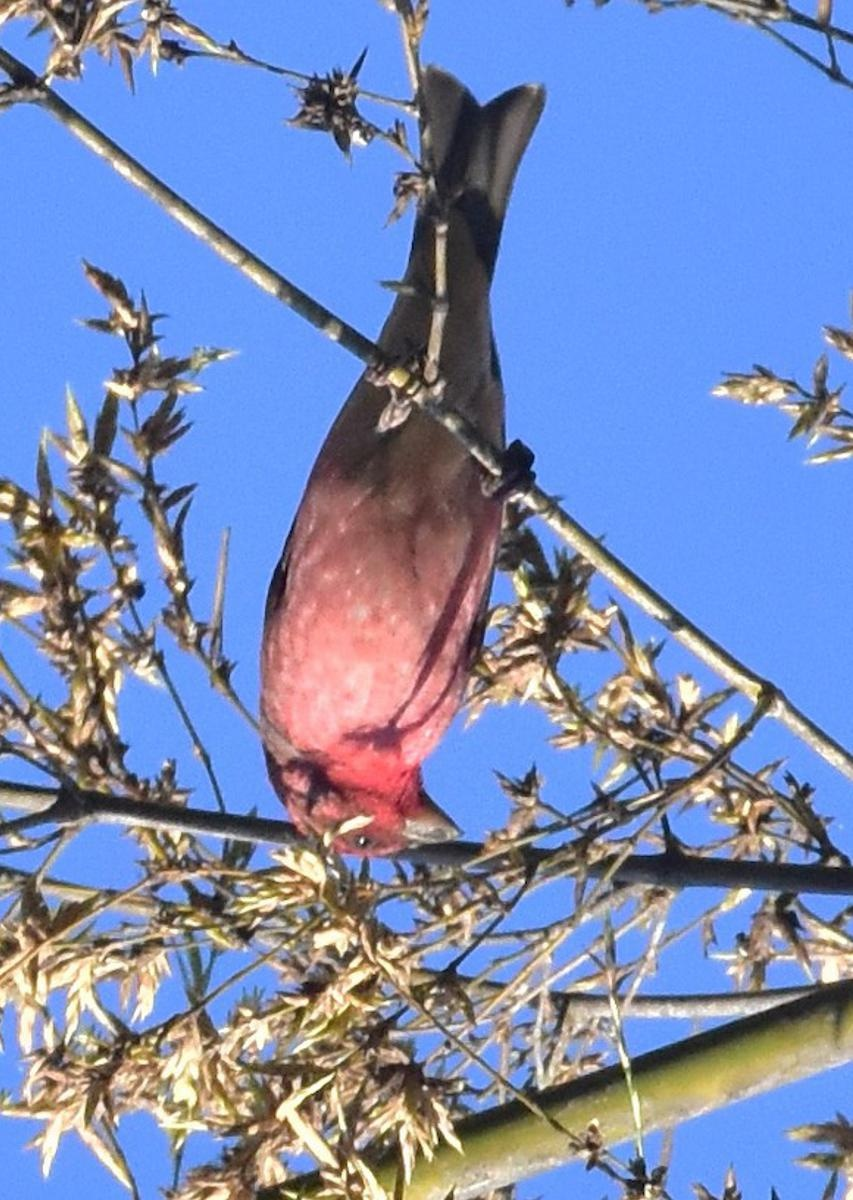rosefinch: (275, 54, 521, 934)
